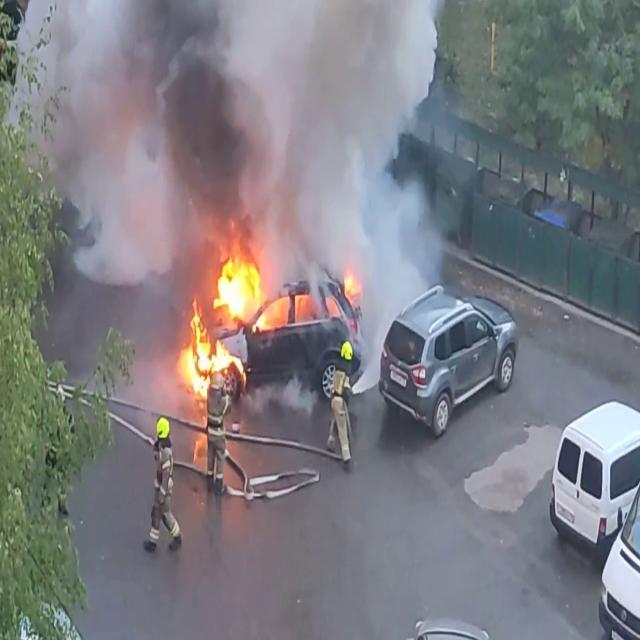Fire: (179, 300, 246, 400), (214, 258, 267, 332), (346, 273, 362, 299)
Smoke: (40, 0, 445, 292), (246, 376, 319, 418)
